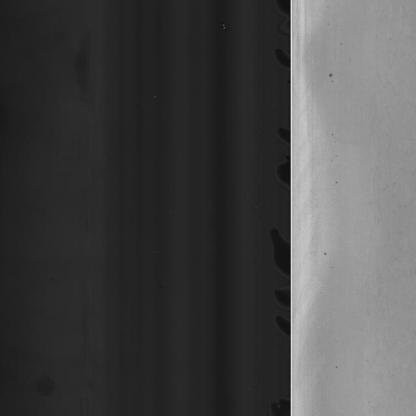inclusion: (323, 247, 335, 270), (326, 62, 336, 81)
silk_spot: (362, 20, 416, 393)
